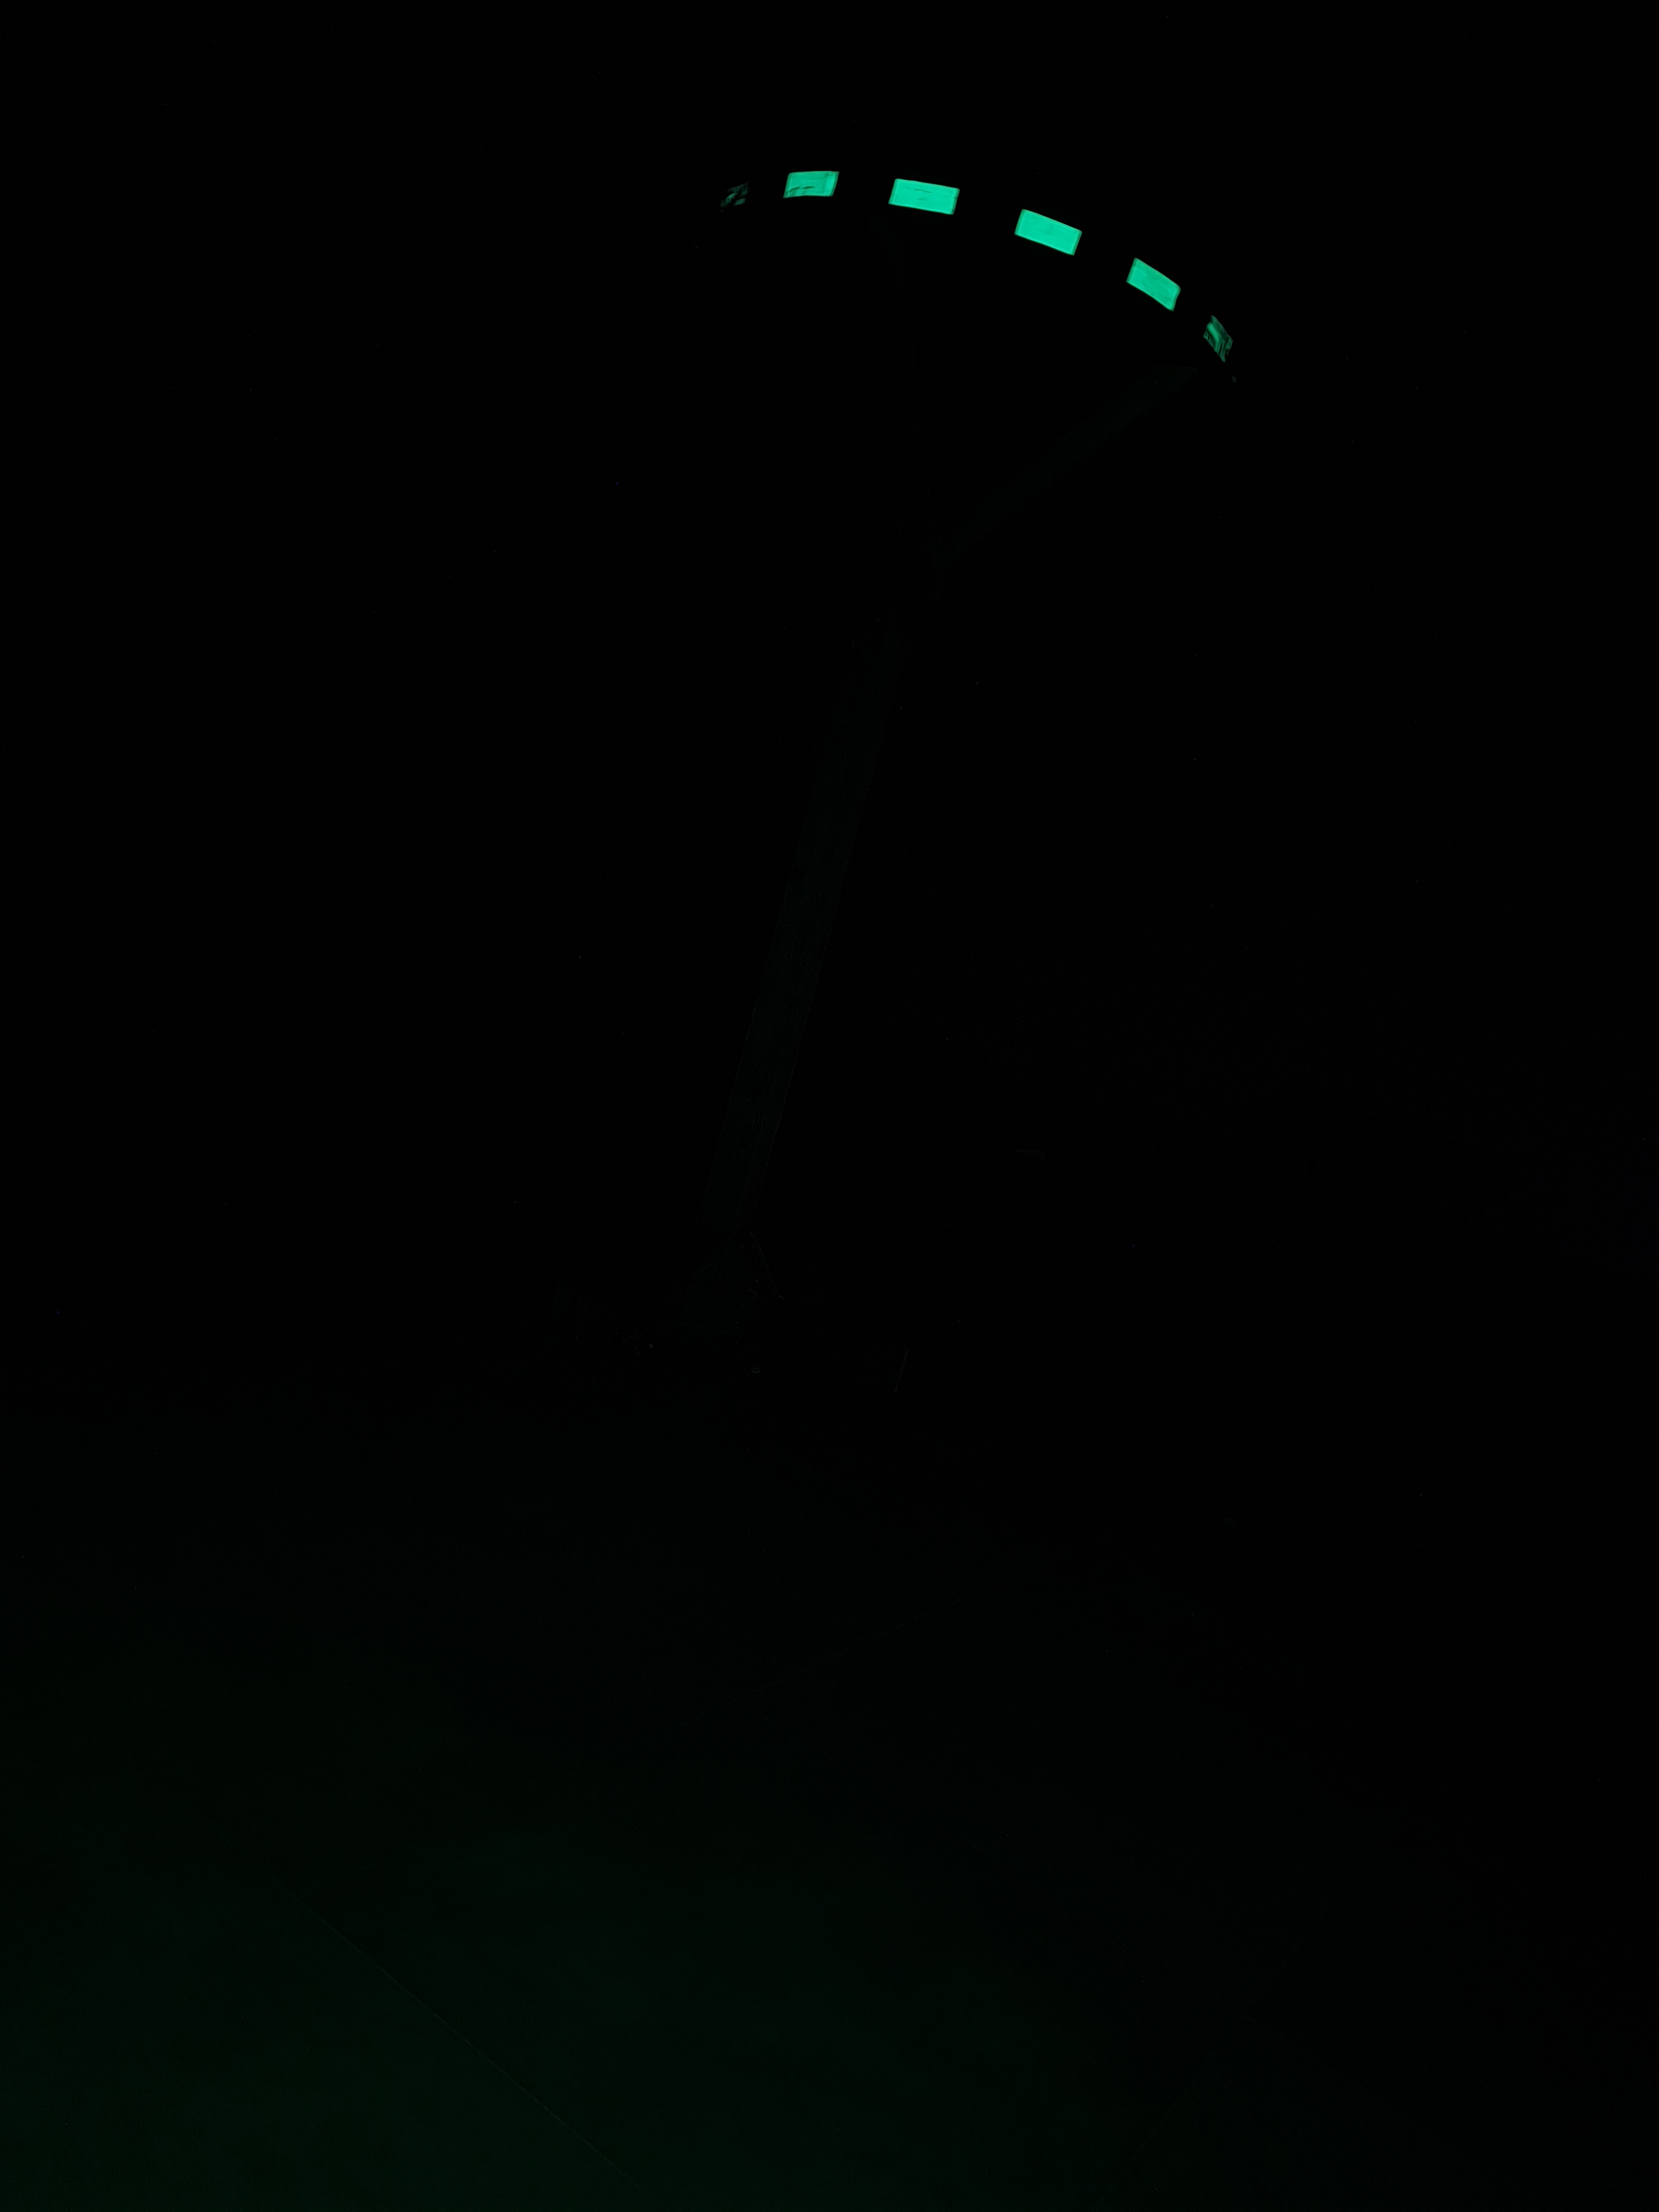hoop: (704, 162, 1243, 376)
